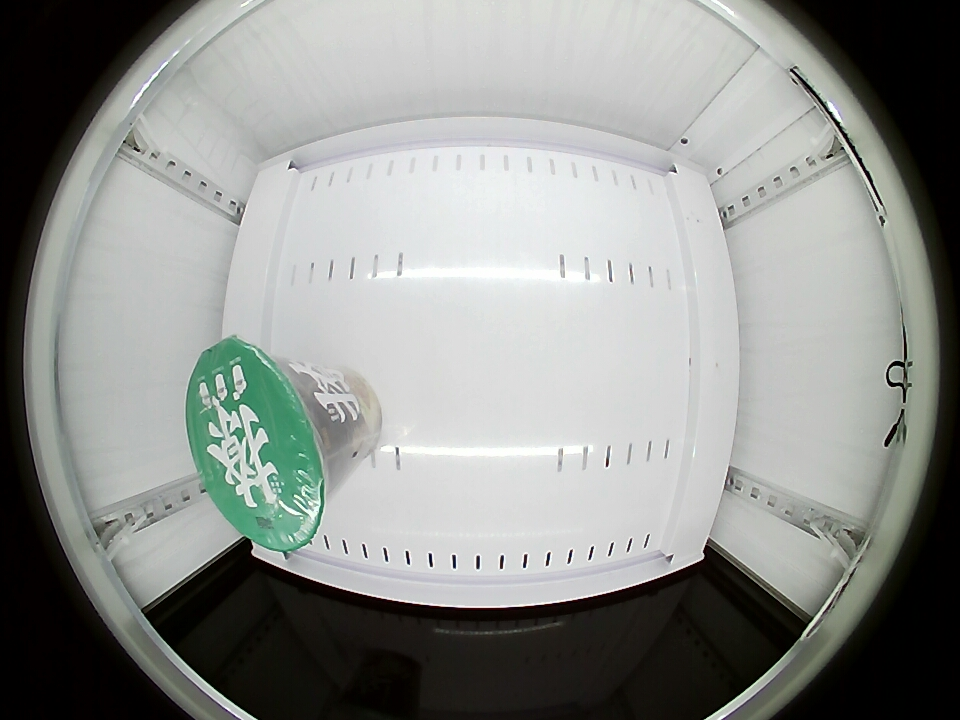liaomian: (187, 339, 338, 550)
